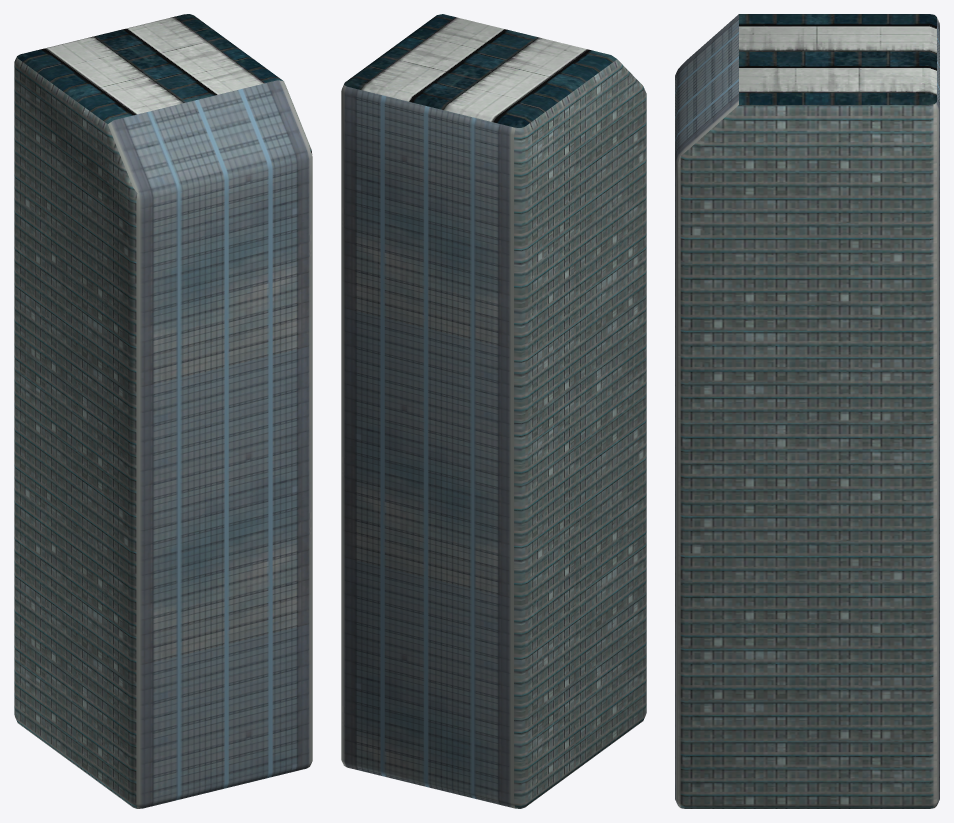
The model's file is 00_03_outside_building_m.dae.
3 renders of one model, left to right at view 1: azimuth 30°, elevation 25°; view 2: azimuth 150°, elevation 25°; view 3: azimuth 270°, elevation 25°, orthographic. The views are drawn at different scales.
Parts seen in each view (by area): view 1: Bm; view 2: Bm; view 3: Bm.
Boxes of the visible parts, box(x1,y1,x2,y2) form: Bm: box(14, 14, 312, 808); Bm: box(341, 14, 646, 808); Bm: box(675, 14, 939, 808).
Size of the model in its own units: 55.28 by 195 by 66.14.
